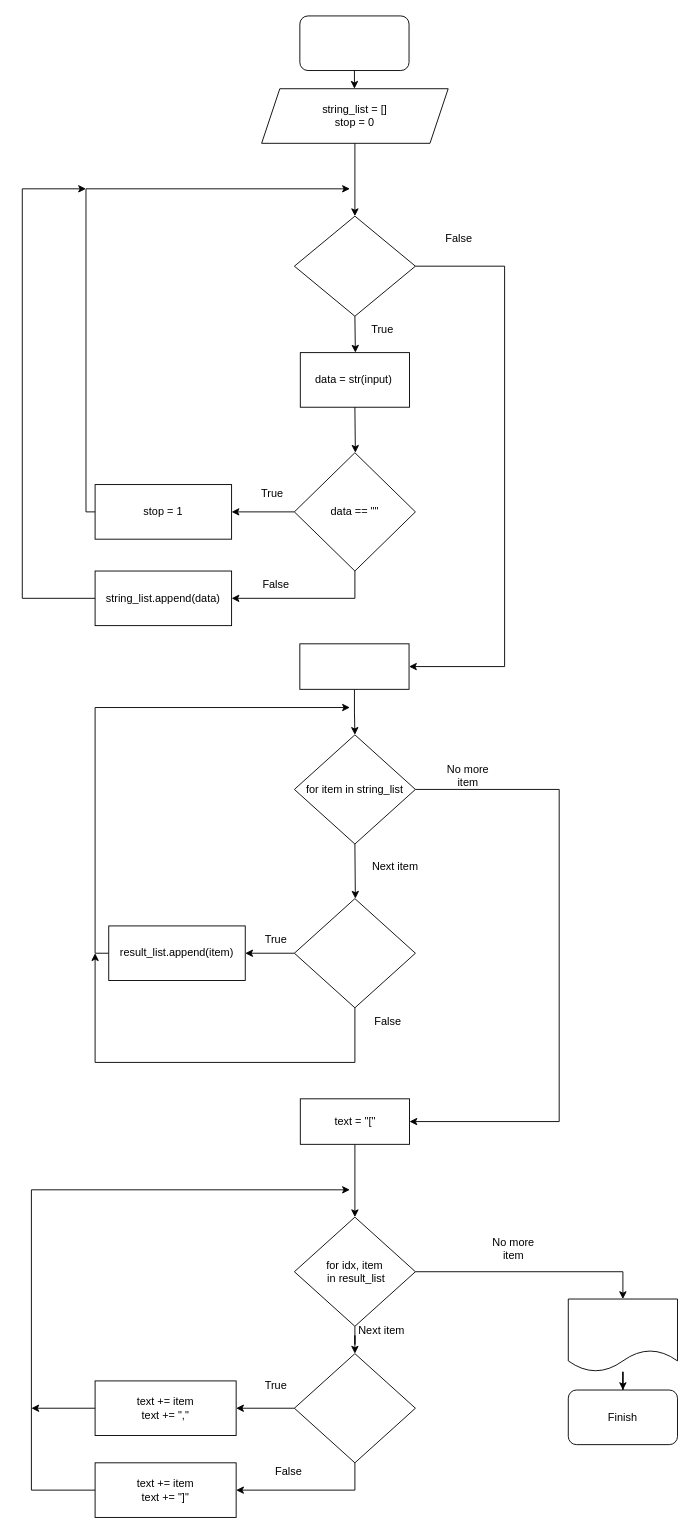
This 693x1533 diagram has some shape labels left out. The shapes that lost their labels are listed below. From the top down, each one's centre as x and y in pixels, then its label:
the point at 354,43: Start
the point at 354,265: stop != 1
the point at 354,666: result_list = []
the point at 354,953: len(item) <=3
the point at 622,1335: print(text)
the point at 354,1408: idx < len(result_list)-1
